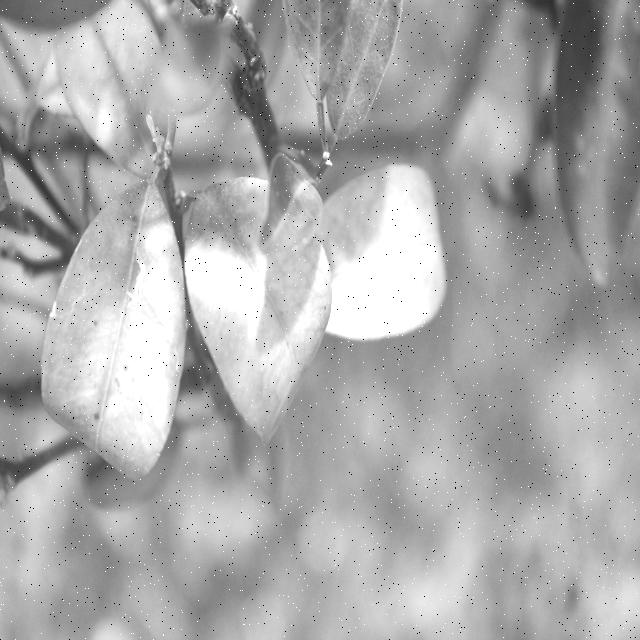greening: (48, 197, 183, 494), (190, 191, 328, 421), (59, 12, 190, 153), (329, 178, 438, 324)
